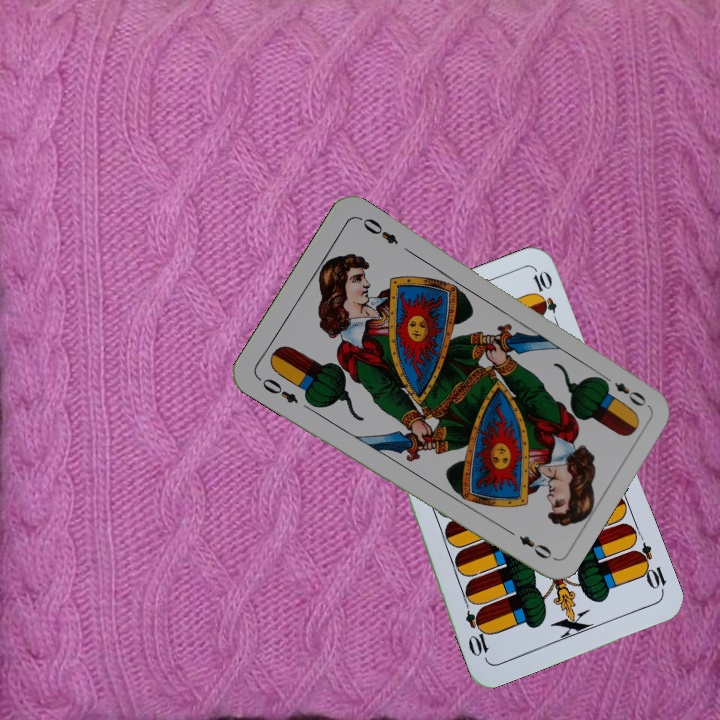E10: (629, 539, 669, 596)
EO: (597, 371, 649, 410), (258, 374, 301, 406)
